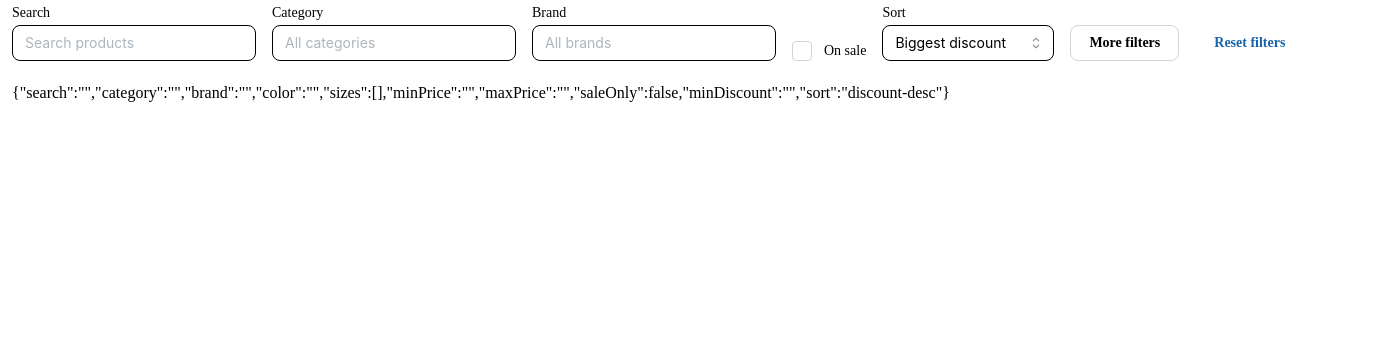
Test: named selectable colors send exact IDs and duplicate names are disambiguated
This screenshot has width=1390, height=358.
Click the button "More filters". click: (1125,43)
box: x1=1070 y1=25 x2=1179 y2=61
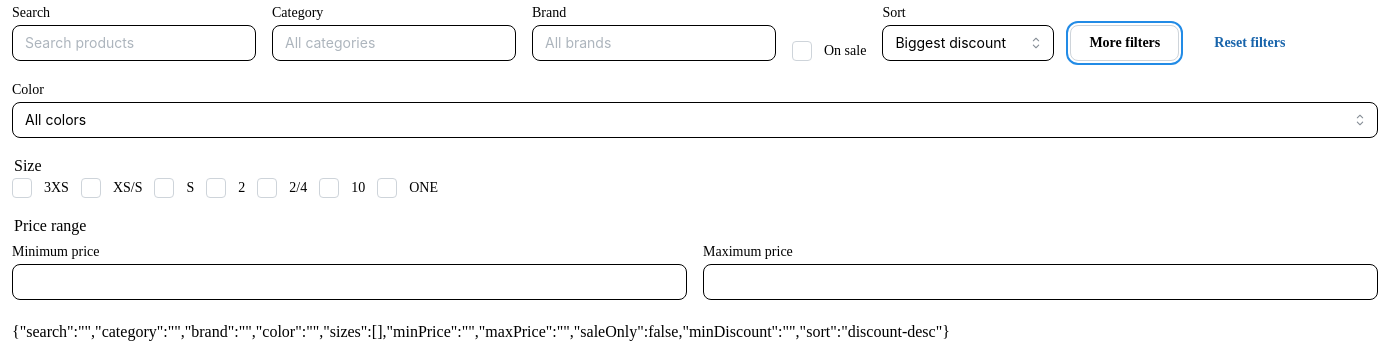
Select "Black (1274)" in the dropdown labelled "Color". click: (695,120)
box: x1=12 y1=102 x2=1378 y2=138
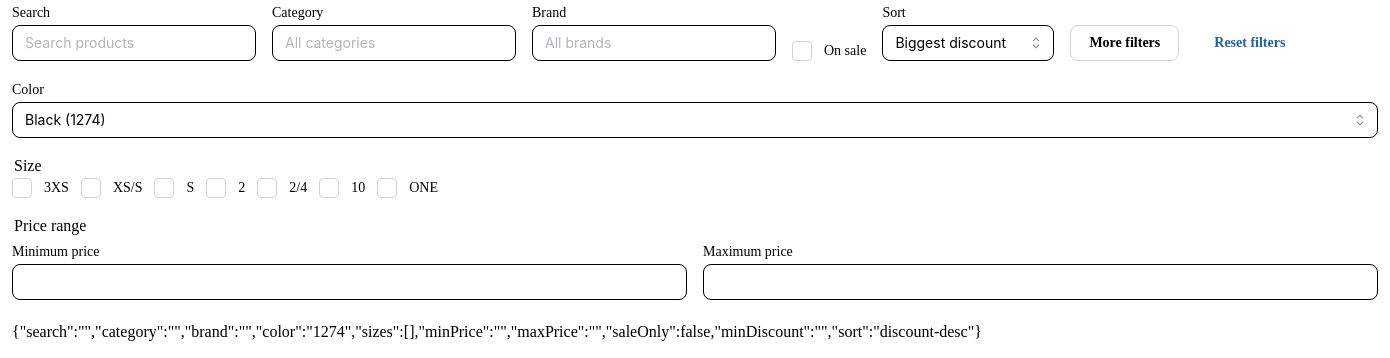
Now the text named "Selected filters" shows "\"color\":\"1274\"", box x1=12 y1=323 x2=982 y2=340
